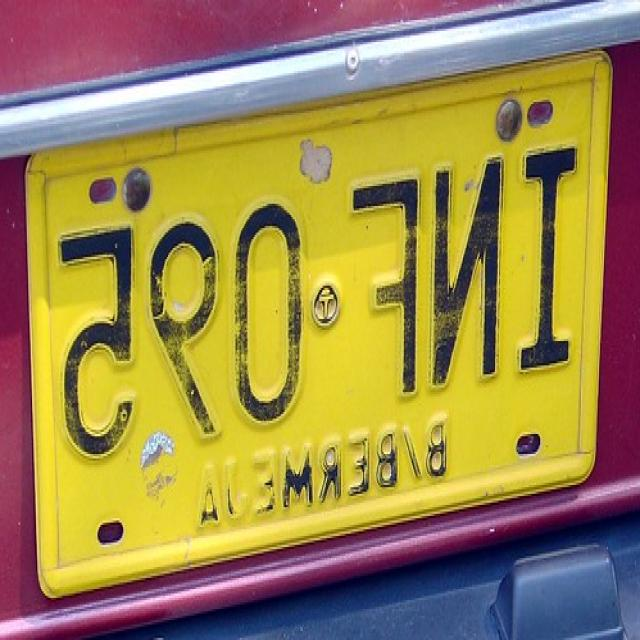placas: (52, 119, 577, 480)
